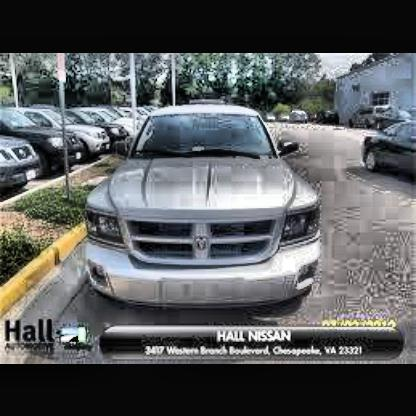Dodge Dakota Crew Cab 2010: (86, 105, 323, 318)
